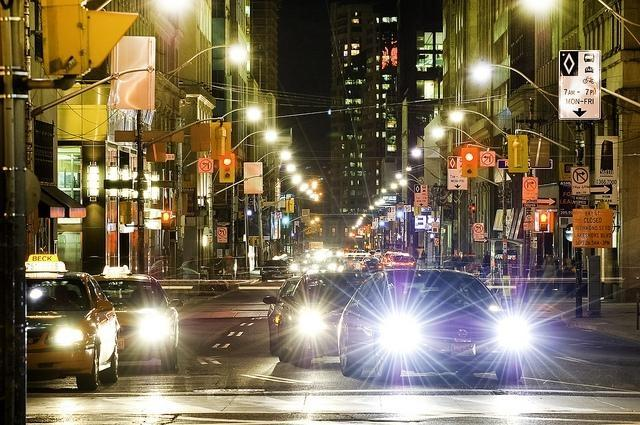car: (339, 269, 523, 383), (24, 256, 117, 385), (280, 273, 370, 369), (94, 276, 180, 367), (262, 274, 300, 362), (260, 258, 290, 282), (380, 251, 417, 268), (318, 257, 344, 274)
